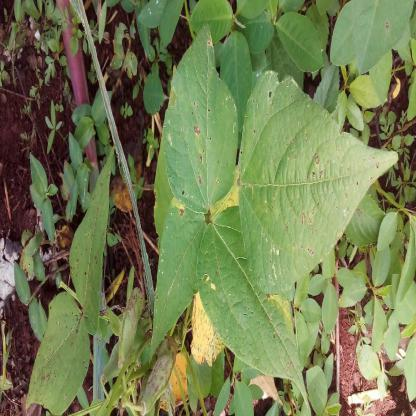Beans_Angular_LeafSpot: (240, 73, 400, 285), (204, 216, 310, 404), (170, 29, 238, 209), (28, 286, 84, 416), (334, 0, 415, 76), (73, 151, 107, 329)
